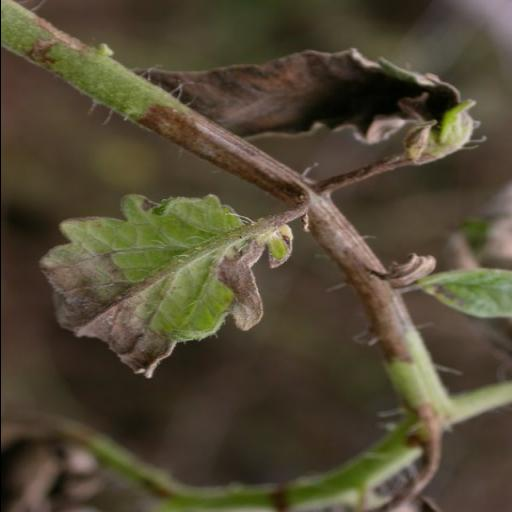disease_tomato: (26, 186, 288, 378)
